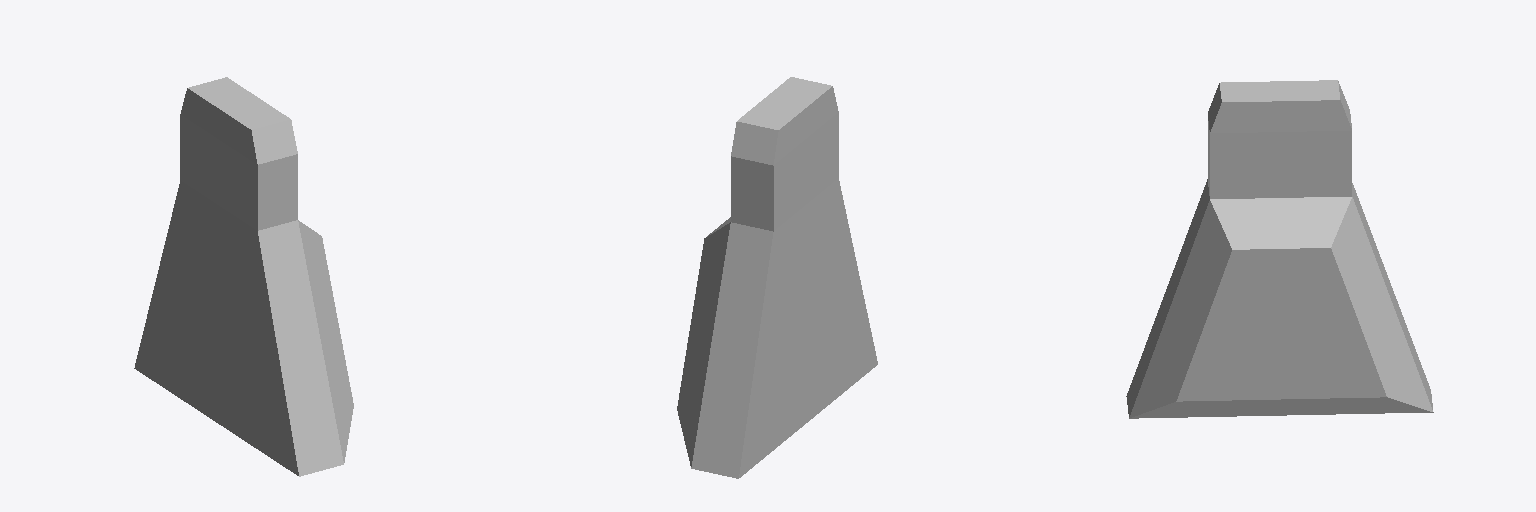
File: Statue.obj
The picture shows the model from 3 angles: view 1: azimuth 30°, elevation 25°; view 2: azimuth 150°, elevation 25°; view 3: azimuth 270°, elevation 25°; orthographic projection.
Parts seen in each view (by area): view 1: Statue; view 2: Statue; view 3: Statue.
Boxes of the visible parts, <box> form: Statue: <box>134,77,353,476</box>; Statue: <box>677,77,877,478</box>; Statue: <box>1126,80,1433,418</box>.
Size of the model in its own units: 5.71 by 18.46 by 16.42.